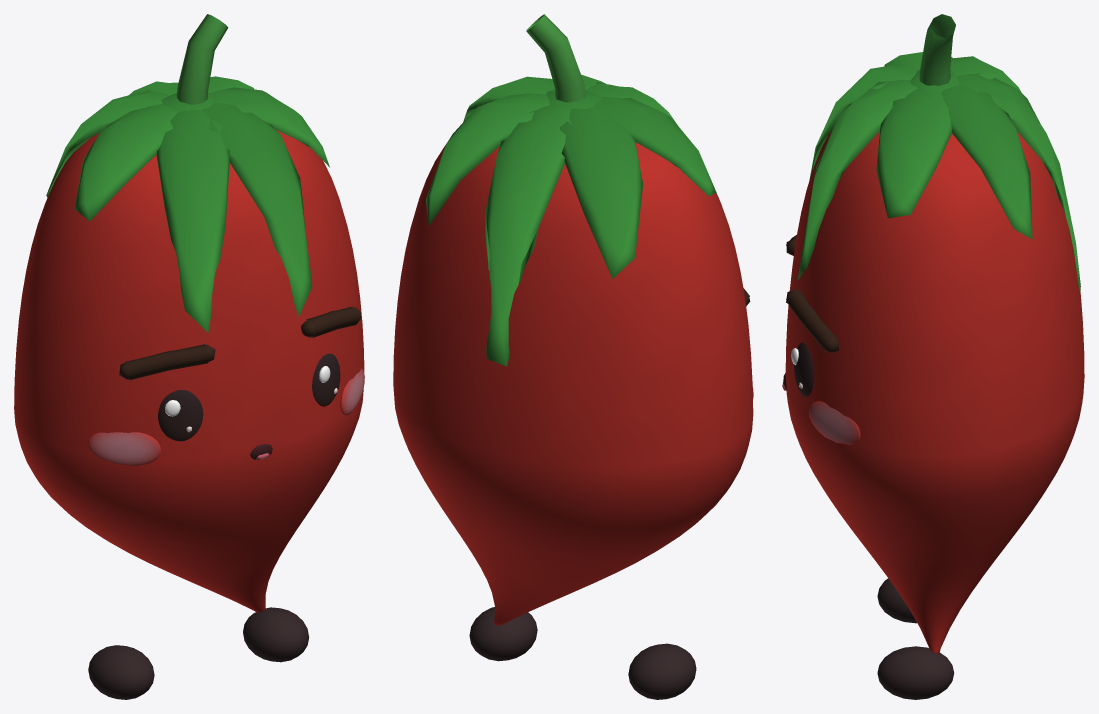
Rendered from folk_chili.glb.
3 views of the same model, side by side, from view 1: azimuth 30°, elevation 25°; view 2: azimuth 150°, elevation 25°; view 3: azimuth 270°, elevation 25° (orthographic). The views are drawn at different scales.
Visible parts, largest first — view 1: chili_body, chili_foot_l, chili_foot_r, chili_eye_l, chili_eye_r; view 2: chili_body, chili_foot_l, chili_foot_r; view 3: chili_body, chili_foot_r, chili_foot_l, chili_eye_r.
Boxes of the visible parts, x1=… form: chili_body: x1=14, y1=14, x2=364, y2=612; chili_foot_l: x1=88, y1=645, x2=154, y2=699; chili_foot_r: x1=243, y1=607, x2=309, y2=662; chili_eye_l: x1=158, y1=390, x2=203, y2=441; chili_eye_r: x1=312, y1=353, x2=340, y2=406; chili_body: x1=393, y1=14, x2=753, y2=625; chili_foot_l: x1=628, y1=643, x2=696, y2=699; chili_foot_r: x1=469, y1=607, x2=537, y2=661; chili_body: x1=782, y1=14, x2=1084, y2=653; chili_foot_r: x1=877, y1=646, x2=954, y2=699; chili_foot_l: x1=877, y1=578, x2=916, y2=623; chili_eye_r: x1=791, y1=342, x2=813, y2=396.
Size of the model in its own units: 0.7245 by 1.4 by 0.5857.
